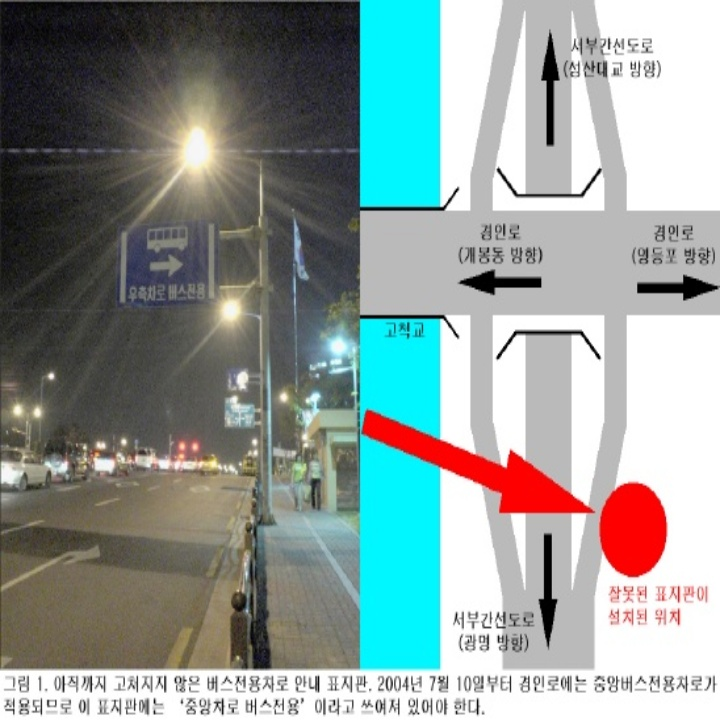bus: (135, 222, 196, 259)
